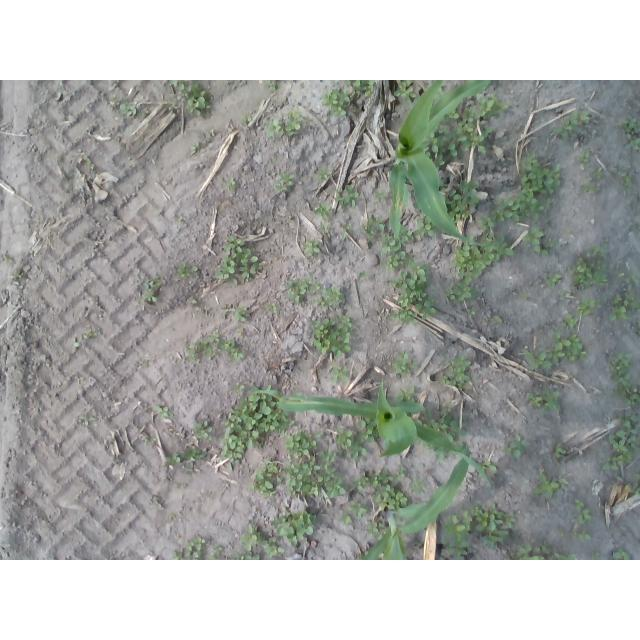Maize: (255, 378, 494, 489), (390, 80, 493, 246), (360, 444, 471, 561)
Weeds: (220, 393, 288, 462), (465, 502, 517, 547), (216, 236, 261, 285), (354, 469, 409, 508), (283, 461, 339, 496), (452, 243, 501, 278), (272, 512, 316, 548), (313, 316, 351, 357), (443, 181, 479, 220), (390, 270, 428, 306), (610, 409, 640, 451), (506, 544, 578, 561), (520, 165, 561, 194), (284, 431, 325, 460), (441, 353, 472, 391), (455, 122, 486, 155), (512, 191, 544, 220), (555, 333, 588, 361), (475, 94, 509, 117), (522, 348, 553, 370), (285, 278, 312, 303), (250, 471, 276, 496), (362, 214, 383, 244), (135, 279, 161, 303), (535, 474, 560, 498), (430, 401, 450, 431), (571, 257, 594, 283), (613, 385, 640, 407), (505, 435, 530, 458), (187, 89, 209, 115), (454, 277, 479, 299), (609, 361, 630, 386), (443, 516, 466, 537), (241, 524, 257, 553), (323, 286, 346, 306), (543, 386, 561, 411), (389, 306, 417, 322), (286, 106, 303, 132), (592, 261, 609, 287), (380, 232, 401, 253), (271, 171, 293, 191), (413, 216, 435, 236), (130, 267, 149, 290), (381, 255, 404, 274), (554, 119, 578, 136), (414, 301, 435, 320), (497, 236, 516, 257), (521, 228, 544, 245), (326, 479, 347, 497), (348, 441, 369, 459), (394, 82, 417, 98), (617, 116, 640, 132), (181, 446, 207, 460), (216, 303, 236, 321), (578, 300, 601, 315), (547, 345, 565, 364), (336, 429, 352, 450), (346, 185, 361, 207), (317, 446, 336, 463), (175, 80, 191, 100), (304, 236, 320, 256), (177, 263, 198, 278), (195, 422, 213, 439), (330, 367, 350, 382), (611, 306, 628, 323), (266, 117, 282, 135), (187, 537, 205, 553), (397, 385, 415, 401), (154, 404, 174, 418), (264, 546, 285, 559), (460, 109, 476, 126), (358, 416, 375, 432), (523, 151, 538, 169), (392, 359, 410, 374), (451, 421, 470, 435), (353, 429, 371, 443), (233, 552, 260, 561), (233, 306, 248, 322), (350, 502, 366, 517), (361, 81, 375, 98), (561, 315, 579, 328), (618, 449, 633, 464), (480, 216, 496, 230), (528, 392, 542, 408), (219, 339, 236, 352), (455, 542, 468, 559), (588, 246, 608, 257), (321, 91, 336, 105), (332, 101, 346, 116), (185, 349, 199, 364), (547, 273, 562, 287), (577, 509, 591, 524), (603, 458, 619, 471), (613, 548, 630, 560), (480, 460, 497, 472), (572, 531, 592, 541), (375, 189, 388, 204), (441, 542, 456, 555), (412, 481, 427, 494), (569, 109, 580, 126), (318, 165, 331, 179), (335, 90, 349, 103), (411, 262, 425, 275), (618, 352, 631, 366), (315, 203, 330, 215), (120, 105, 136, 116), (504, 210, 520, 221), (621, 172, 632, 188), (626, 272, 639, 285), (435, 449, 448, 462), (231, 347, 243, 361), (366, 521, 378, 535), (268, 460, 280, 474), (447, 140, 457, 156), (430, 132, 438, 152), (580, 151, 592, 164), (493, 210, 505, 223), (480, 233, 494, 244), (555, 444, 566, 458), (232, 381, 246, 392), (438, 137, 446, 156), (401, 227, 411, 242), (584, 185, 600, 194), (580, 109, 592, 121), (341, 512, 352, 525), (623, 300, 638, 309), (396, 465, 405, 480), (207, 331, 219, 342), (401, 251, 413, 262), (191, 83, 201, 96), (434, 154, 444, 167), (500, 197, 513, 207), (167, 453, 180, 463), (79, 414, 93, 423), (535, 246, 550, 254), (257, 532, 267, 544), (630, 138, 640, 150), (336, 192, 345, 205), (182, 338, 191, 351), (572, 284, 588, 291), (624, 289, 634, 300), (442, 291, 454, 300), (312, 280, 320, 293), (198, 339, 208, 349), (611, 293, 621, 303), (204, 348, 215, 357), (629, 485, 640, 494), (348, 81, 362, 88), (190, 142, 198, 154), (576, 500, 584, 512), (285, 418, 293, 430), (490, 316, 503, 323), (546, 197, 555, 207), (320, 224, 330, 233), (265, 302, 275, 311), (484, 127, 493, 137), (1, 251, 10, 261), (449, 112, 460, 120), (439, 126, 450, 134), (558, 478, 567, 487), (176, 552, 185, 561), (614, 270, 624, 278), (455, 533, 465, 541), (87, 331, 98, 338), (227, 178, 236, 186), (316, 298, 324, 307), (399, 349, 408, 357), (467, 308, 477, 315), (592, 552, 600, 560), (270, 80, 277, 89), (170, 81, 179, 88), (188, 297, 197, 304), (594, 171, 603, 178), (192, 553, 201, 560), (184, 467, 193, 474), (341, 223, 351, 229), (212, 545, 222, 551), (15, 268, 21, 278), (143, 358, 150, 366), (611, 166, 618, 174), (73, 340, 79, 349), (627, 134, 637, 139), (428, 296, 434, 304), (558, 528, 564, 536), (86, 158, 91, 167), (169, 106, 178, 111), (545, 244, 554, 249), (248, 111, 252, 122), (523, 293, 530, 299), (359, 271, 365, 278), (634, 475, 640, 482), (211, 554, 218, 560), (143, 437, 150, 443), (140, 110, 148, 115), (342, 231, 346, 241), (270, 538, 278, 543), (243, 114, 248, 122), (405, 80, 414, 84), (239, 328, 245, 334), (169, 513, 175, 519), (211, 129, 215, 136), (180, 216, 187, 220), (152, 439, 157, 444), (90, 164, 94, 169)
